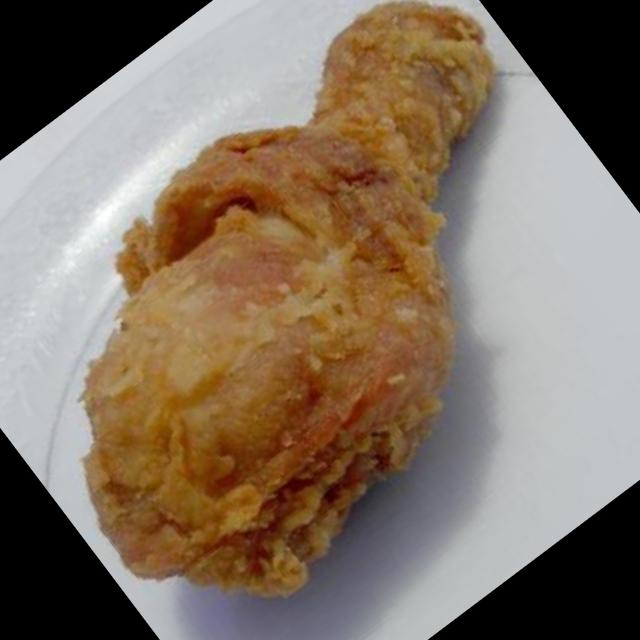Fried Chicken: (81, 0, 496, 602)
